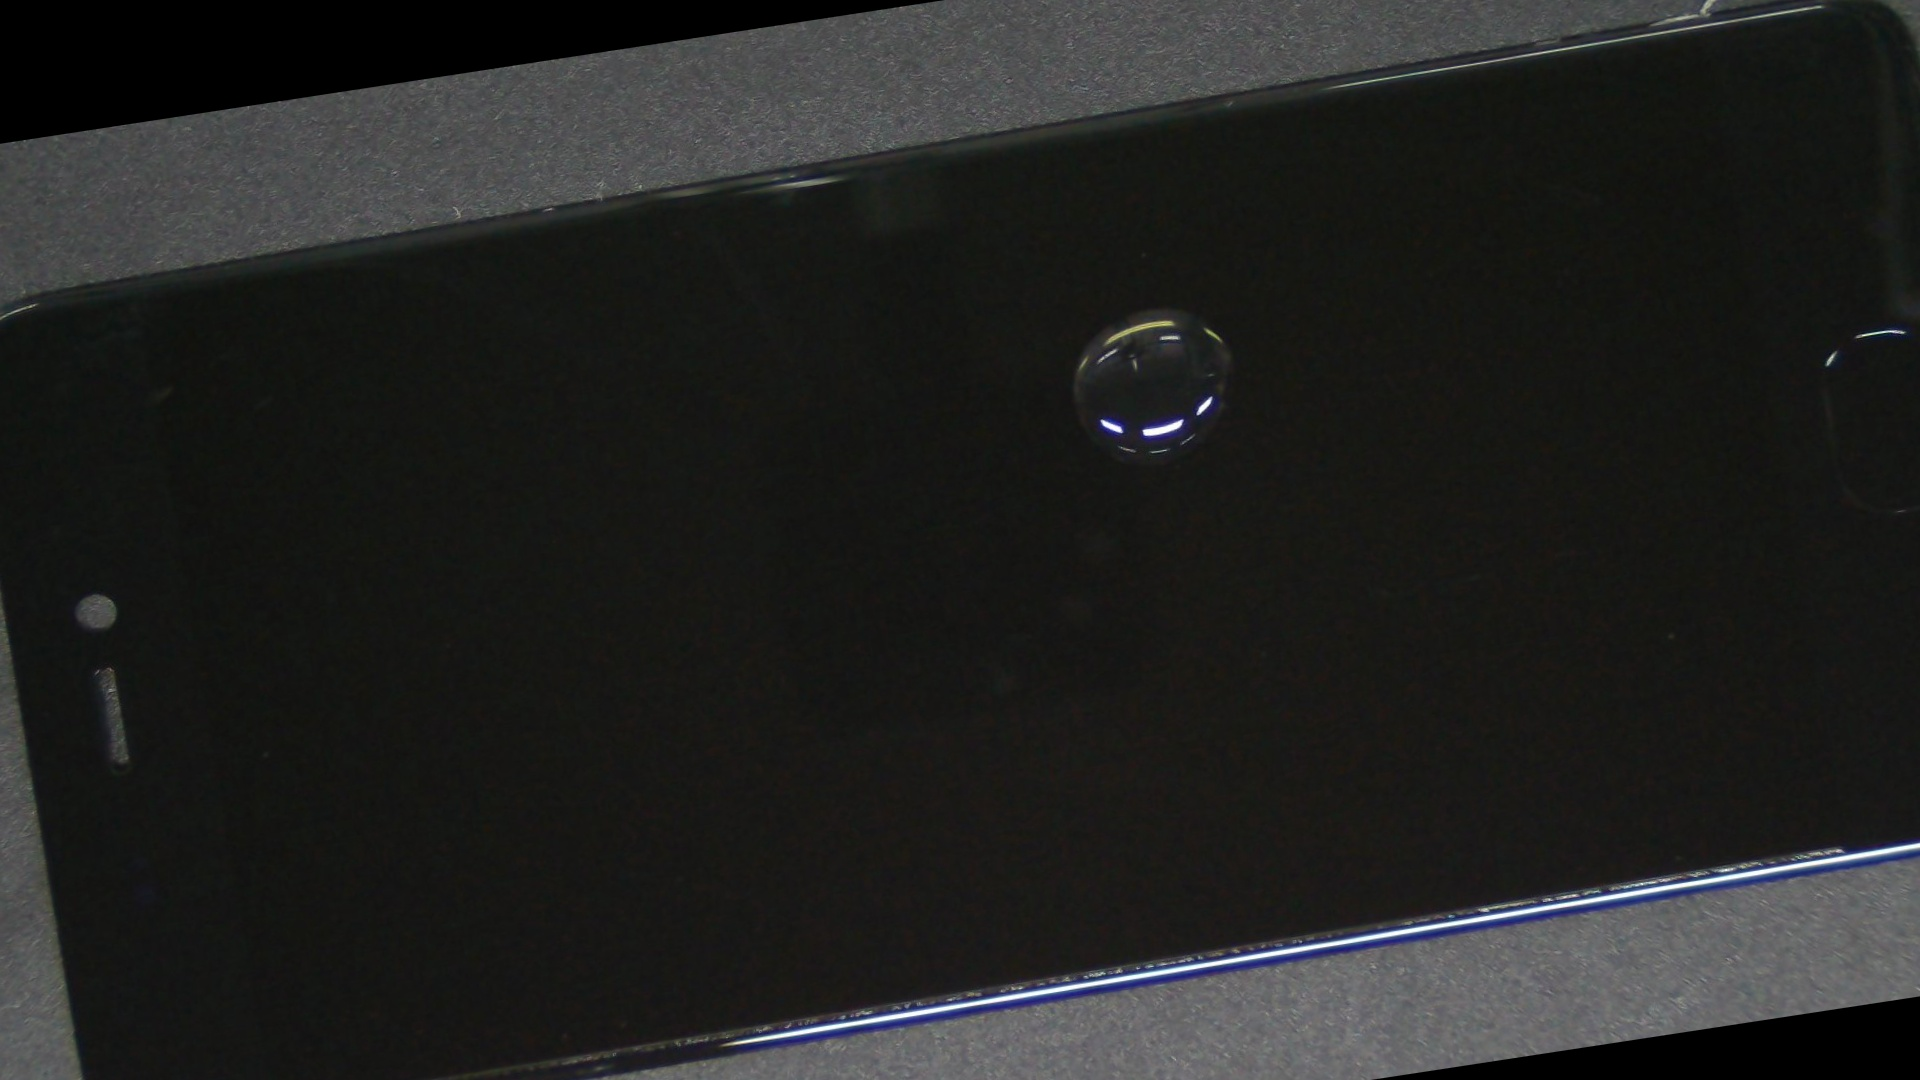oil: (460, 44, 1825, 578)
